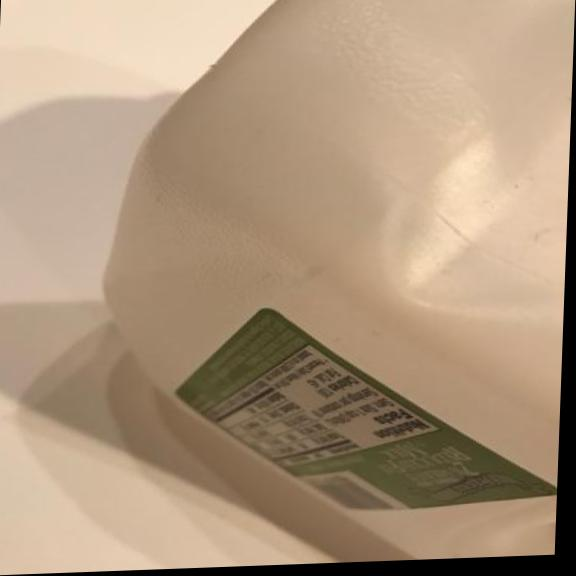Plastik: (89, 0, 576, 572)
